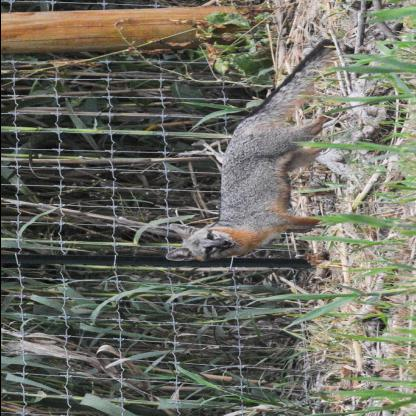zorro: (158, 41, 367, 261)
